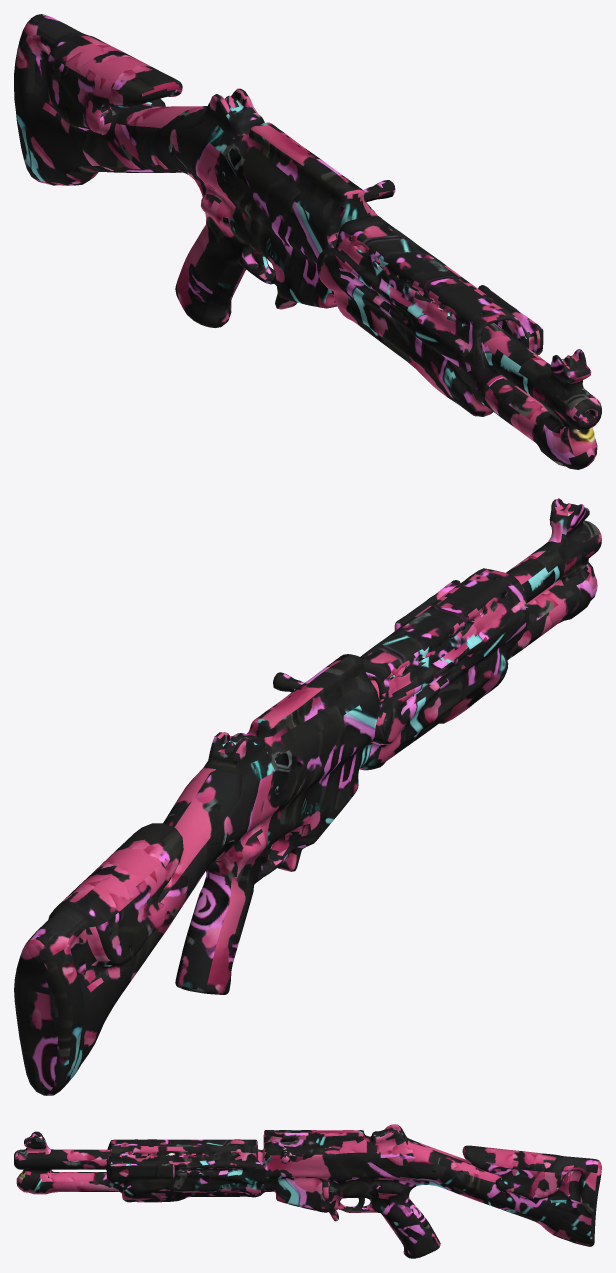
The model's file is OnyxModel.fbx.
The picture shows the model from 3 angles, top to bottom: view 1: azimuth 30°, elevation 25°; view 2: azimuth 150°, elevation 25°; view 3: azimuth 270°, elevation 25°; orthographic projection. The views are drawn at different scales.
Visible parts, largest first — view 1: tripo_node_89f13362; view 2: tripo_node_89f13362; view 3: tripo_node_89f13362.
Part boxes in pixels (x1,y1,x2,y2): tripo_node_89f13362: (14,14,601,469); tripo_node_89f13362: (14,498,601,1095); tripo_node_89f13362: (14,1124,601,1258).
Size of the model in its own units: 0.0974 by 0.2433 by 0.9996.
